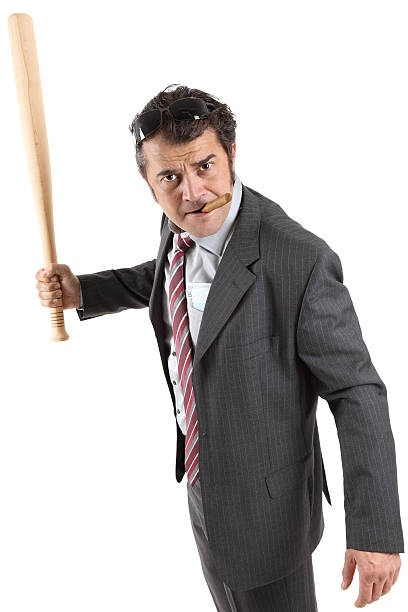bita: (6, 14, 72, 343)
